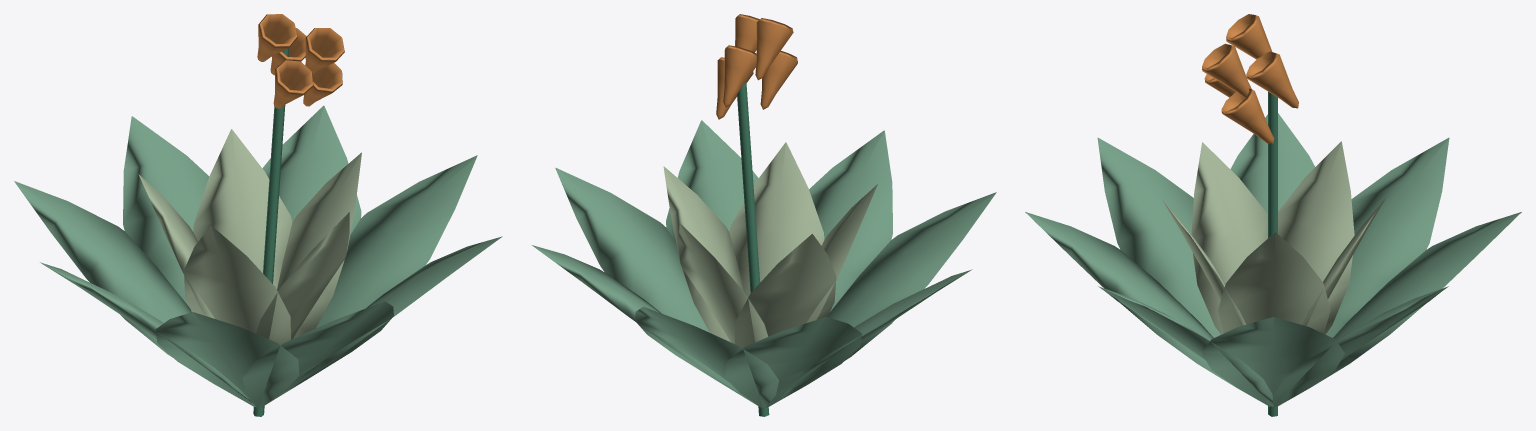
Rendered from aloe.glb.
3 renders of one model, left to right at view 1: azimuth 30°, elevation 25°; view 2: azimuth 150°, elevation 25°; view 3: azimuth 270°, elevation 25°, orthographic. The views are drawn at different scales.
Visible parts, largest first — view 1: Vesper / aloe; view 2: Vesper / aloe; view 3: Vesper / aloe.
Part boxes in pixels (bbox=[...]): Vesper / aloe: bbox=[14, 14, 502, 416]; Vesper / aloe: bbox=[531, 14, 996, 416]; Vesper / aloe: bbox=[1025, 14, 1521, 416].
Size of the model in its own units: 2.4 by 2.13 by 2.4.
